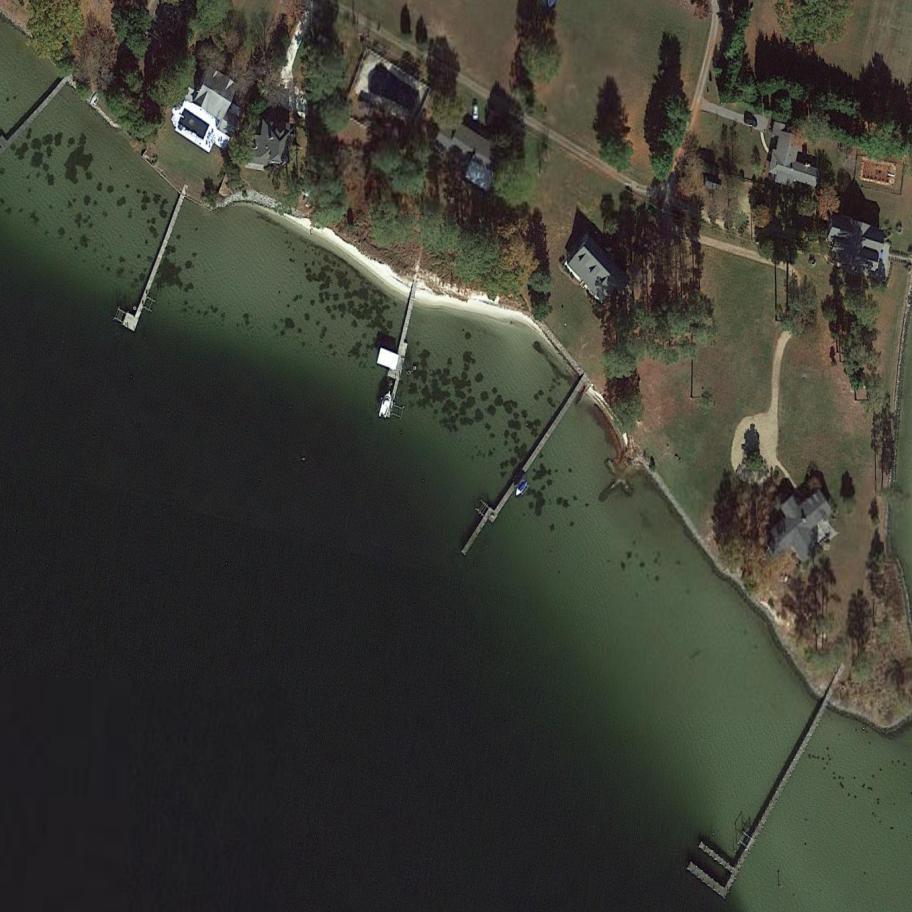ship: (378, 389, 394, 420), (513, 478, 529, 498)
small-vehicle: (471, 103, 480, 122)
